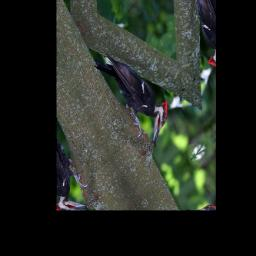Woodpecker: (92, 26, 179, 159)
